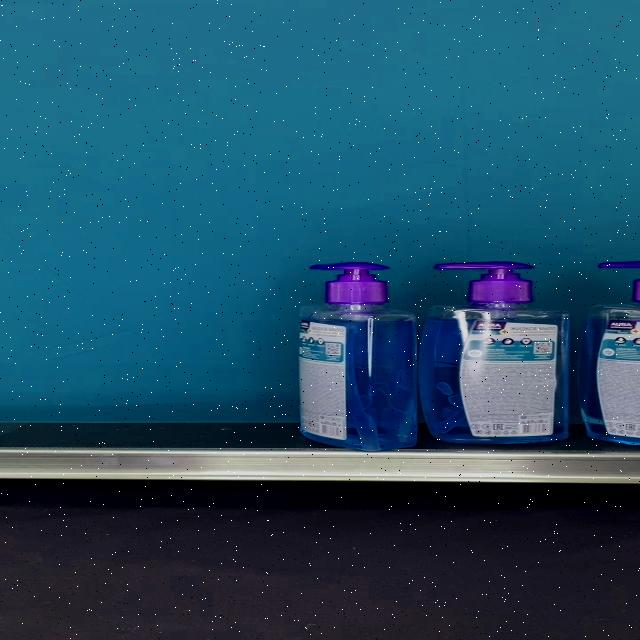Bottle: (420, 261, 570, 445), (297, 261, 418, 451)
Cap: (433, 261, 533, 303), (309, 262, 390, 303)
